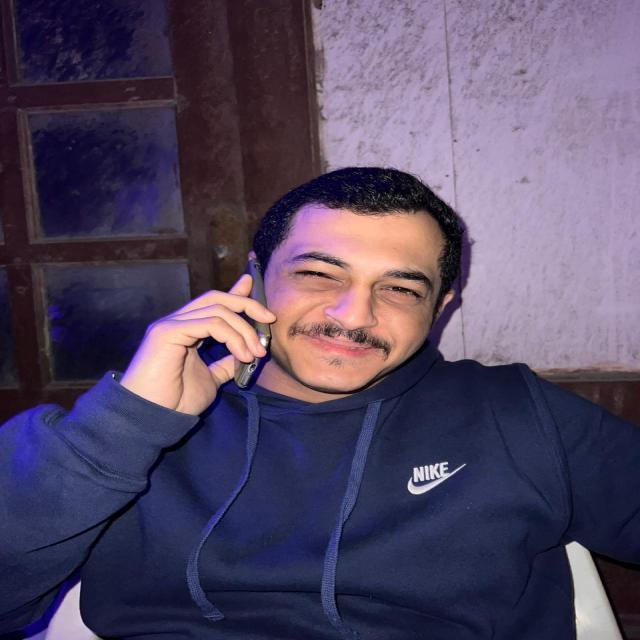phone: (229, 256, 271, 390)
